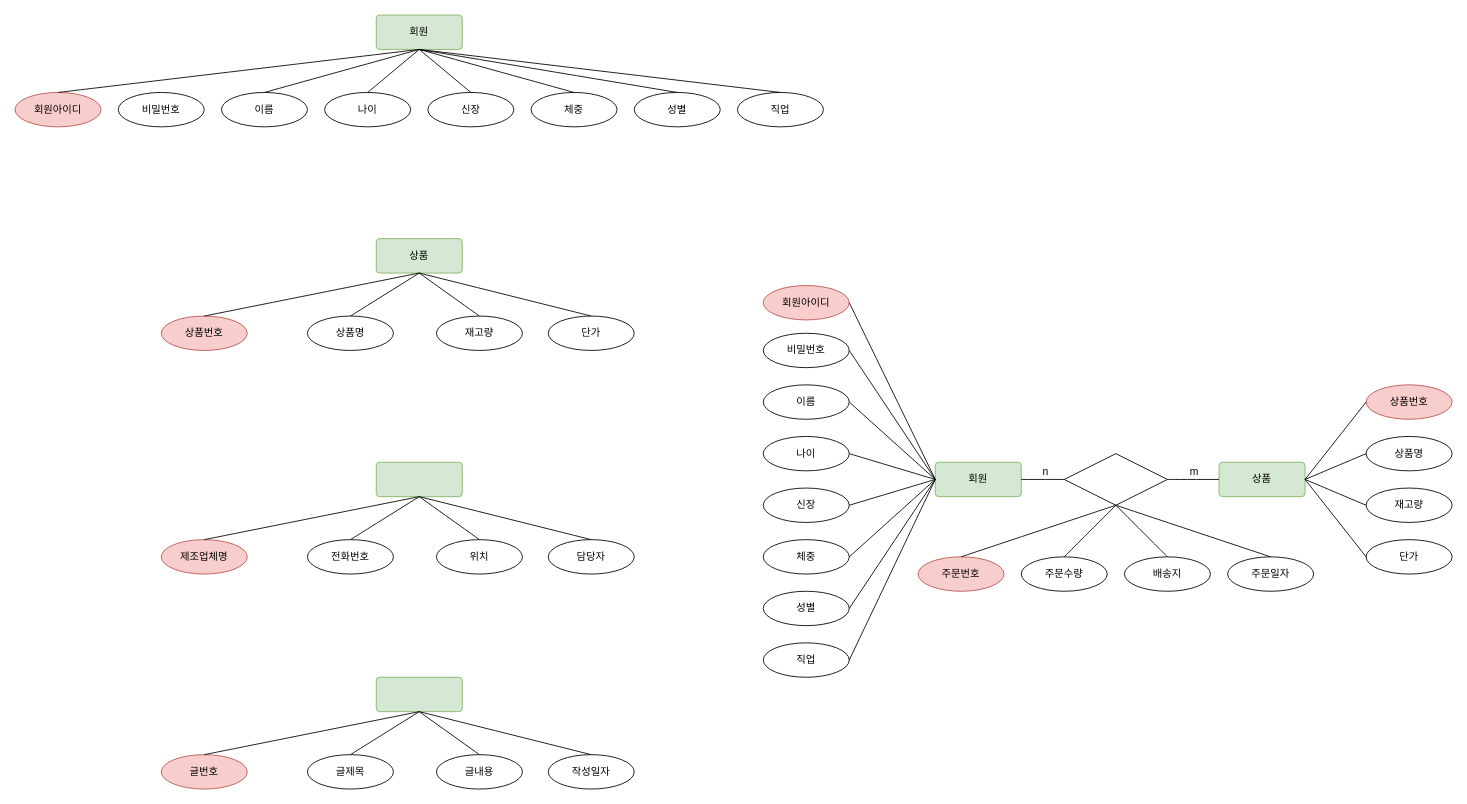
The diagram is 1467 pixels wide and 804 high, and some of its shapes have lost their labels. Each missing label, with the centre of its shape:
"게시글" belongs at [418,694].
"제조업체" belongs at [418,479].
"주문" belongs at [1115,479].
